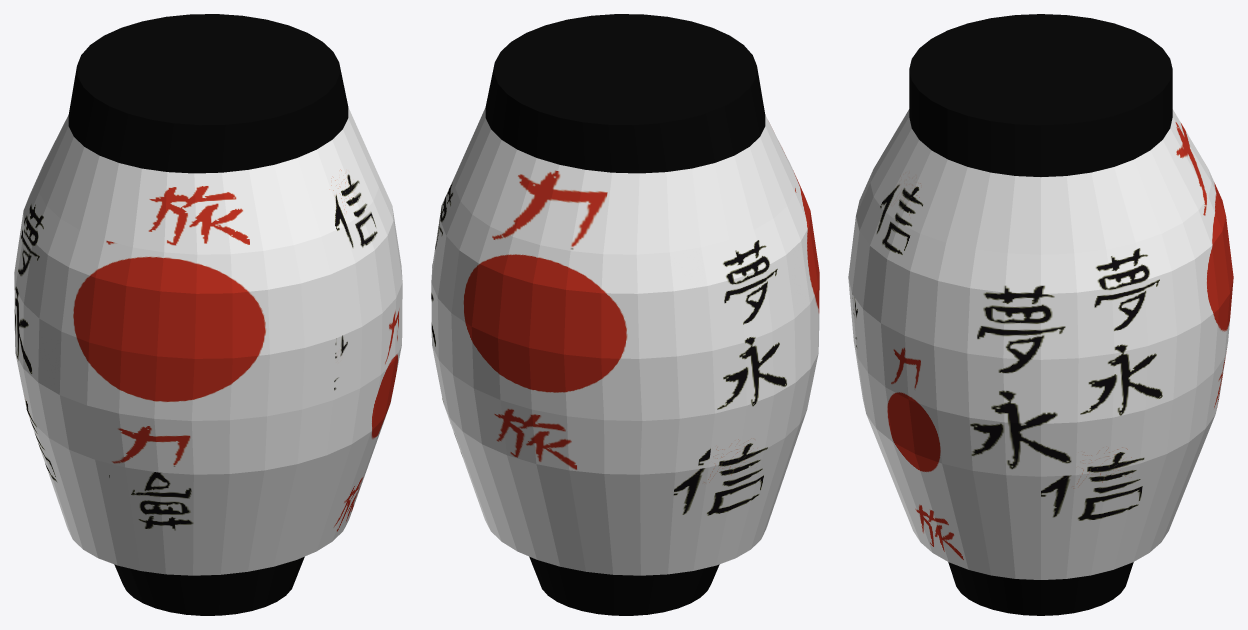
File: Lampada.fbx
3 views of the same model, side by side, from view 1: azimuth 30°, elevation 25°; view 2: azimuth 150°, elevation 25°; view 3: azimuth 270°, elevation 25° (orthographic).
Visible parts, largest first — view 1: Lanterna; view 2: Lanterna; view 3: Lanterna.
Boxes of the visible parts, box(x1,y1,x2,y2) form: Lanterna: box(14, 14, 402, 615); Lanterna: box(431, 14, 819, 615); Lanterna: box(848, 14, 1233, 615).
Size of the model in its own units: 411 by 588 by 403.
Materials: 2 (1 with a texture image).
